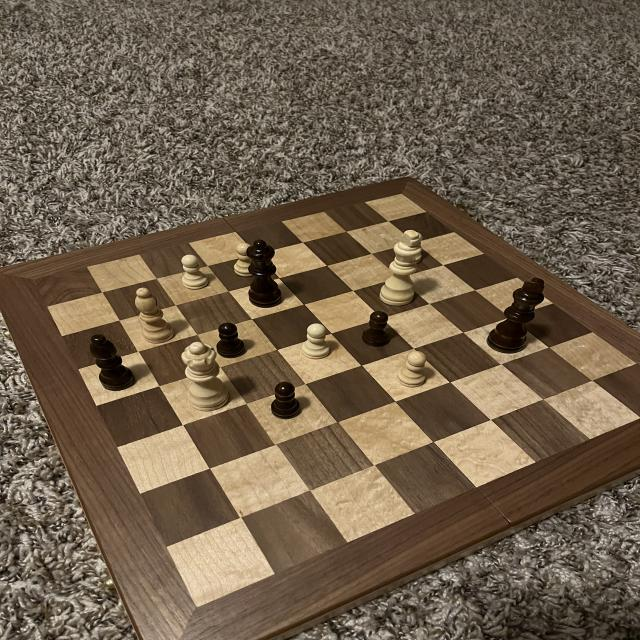bishop: (84, 332, 146, 392)
black-bishop: (485, 275, 549, 355)
black-knight: (211, 318, 253, 361), (266, 380, 307, 422), (358, 308, 397, 347)
black-pawn: (240, 238, 290, 312)
black-rook: (134, 284, 176, 346)
white-bishop: (378, 226, 424, 308)
white-knight: (175, 250, 218, 295), (394, 349, 431, 393), (298, 322, 336, 362), (234, 240, 258, 276)
white-pawn: (180, 339, 232, 417)
